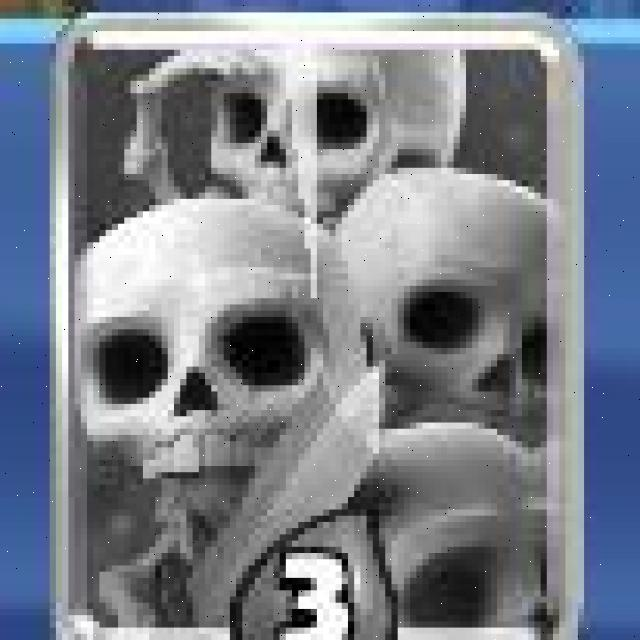Skeleton_Army: (49, 19, 588, 638)
